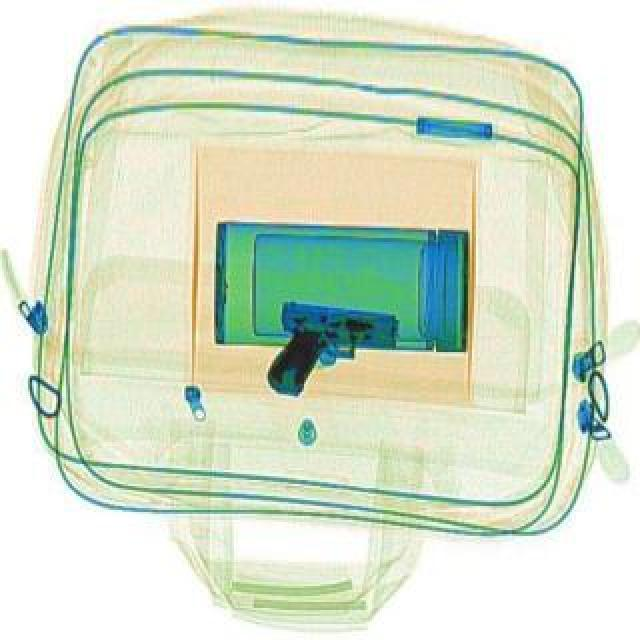gun: (262, 300, 400, 402)
